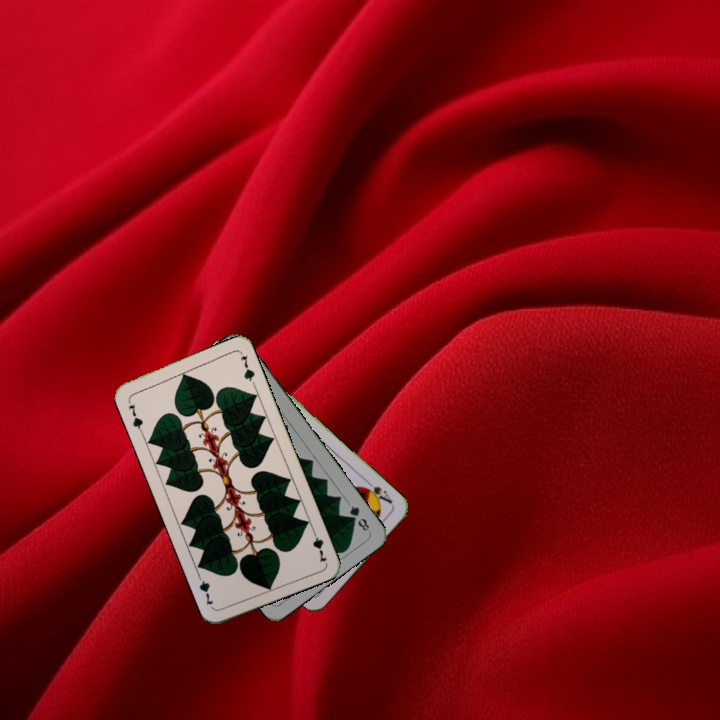G7: (308, 525, 330, 565), (124, 396, 146, 435)
G8: (345, 501, 372, 533)
SA: (359, 477, 395, 509)
